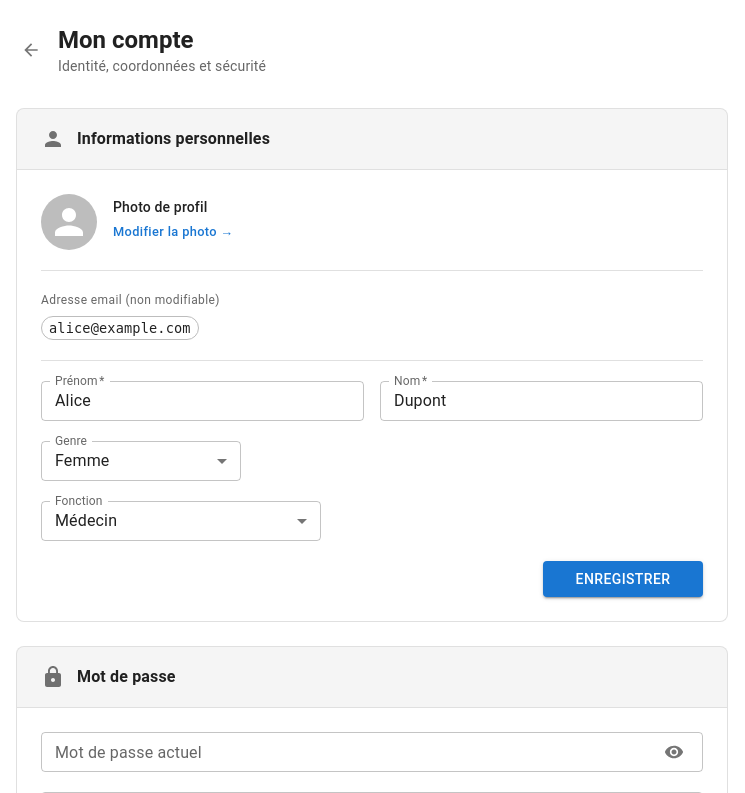
it: ProfileAccountPage — validation mot de passe › bloque si confirmation ≠ nouveau mot de passe
Type "ancien123" into the password field labelled "Mot de passe actuel" at (346, 752), box top-left (41, 732), bottom-right (651, 772)
(page scrolled)
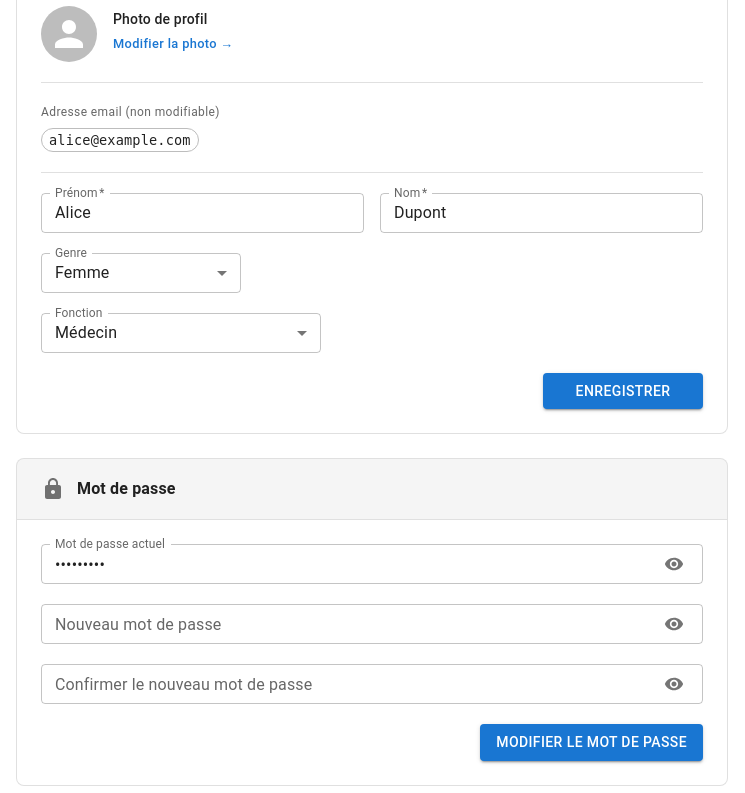
Type "nouveau456" into the password field labelled "Nouveau mot de passe" at (346, 624), box top-left (41, 604), bottom-right (651, 644)
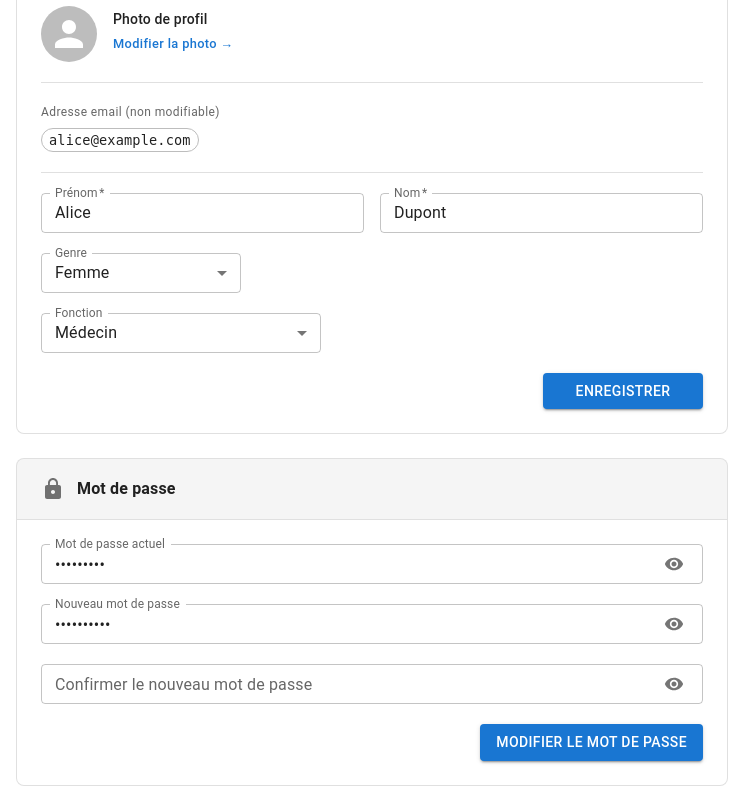
Type "different" into the password field labelled "Confirmer le nouveau mot de passe" at (346, 684), box top-left (41, 664), bottom-right (651, 704)
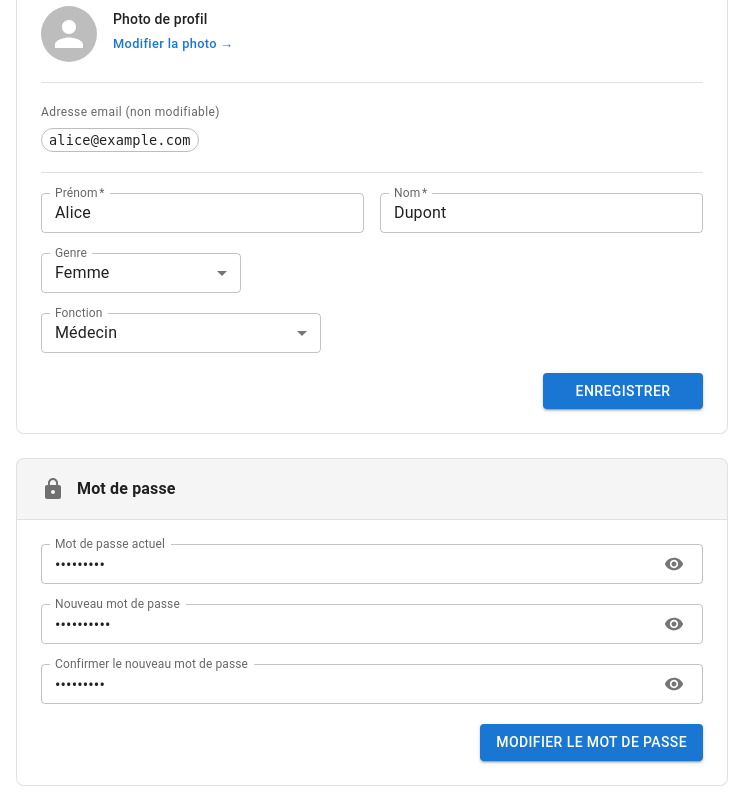
Click the button "Modifier le mot de passe" at (592, 742), box top-left (480, 724), bottom-right (703, 761)
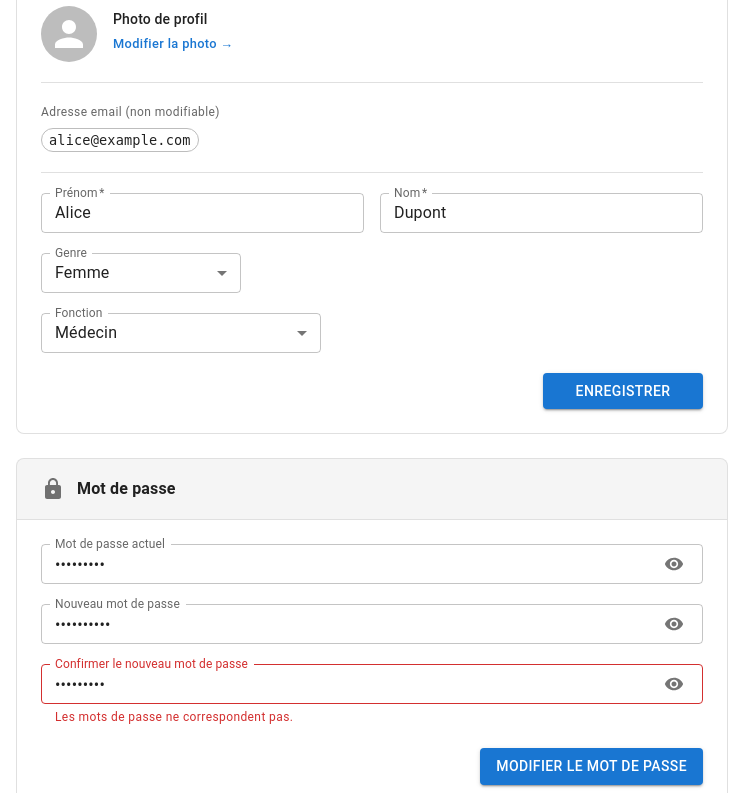
Check: the text "Les mots de passe ne correspondent pas." is shown, box top-left (55, 710), bottom-right (293, 724)
